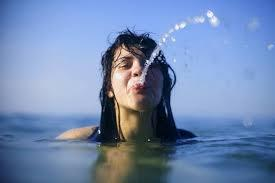spitting: (38, 3, 257, 168)
